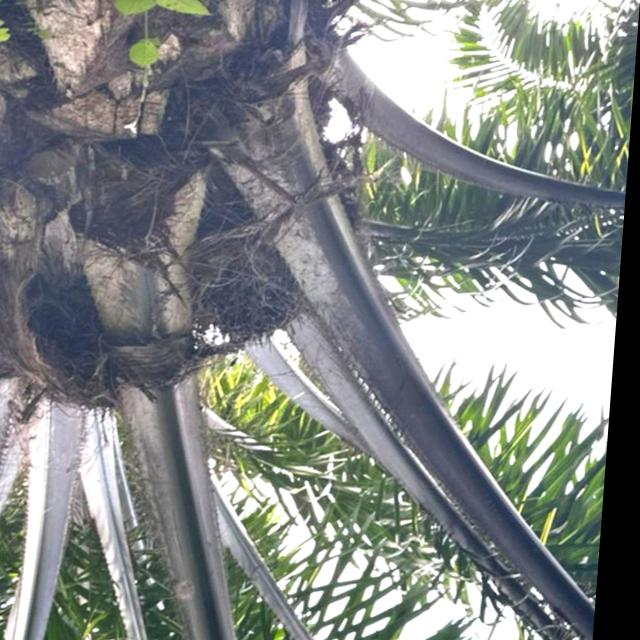almost: (195, 125, 383, 368)
